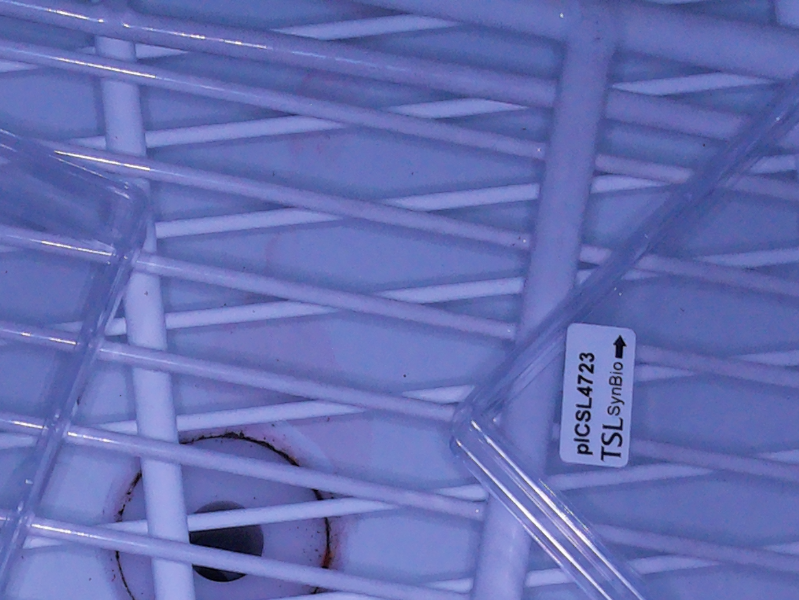plate: (445, 71, 799, 600), (1, 133, 155, 600)
